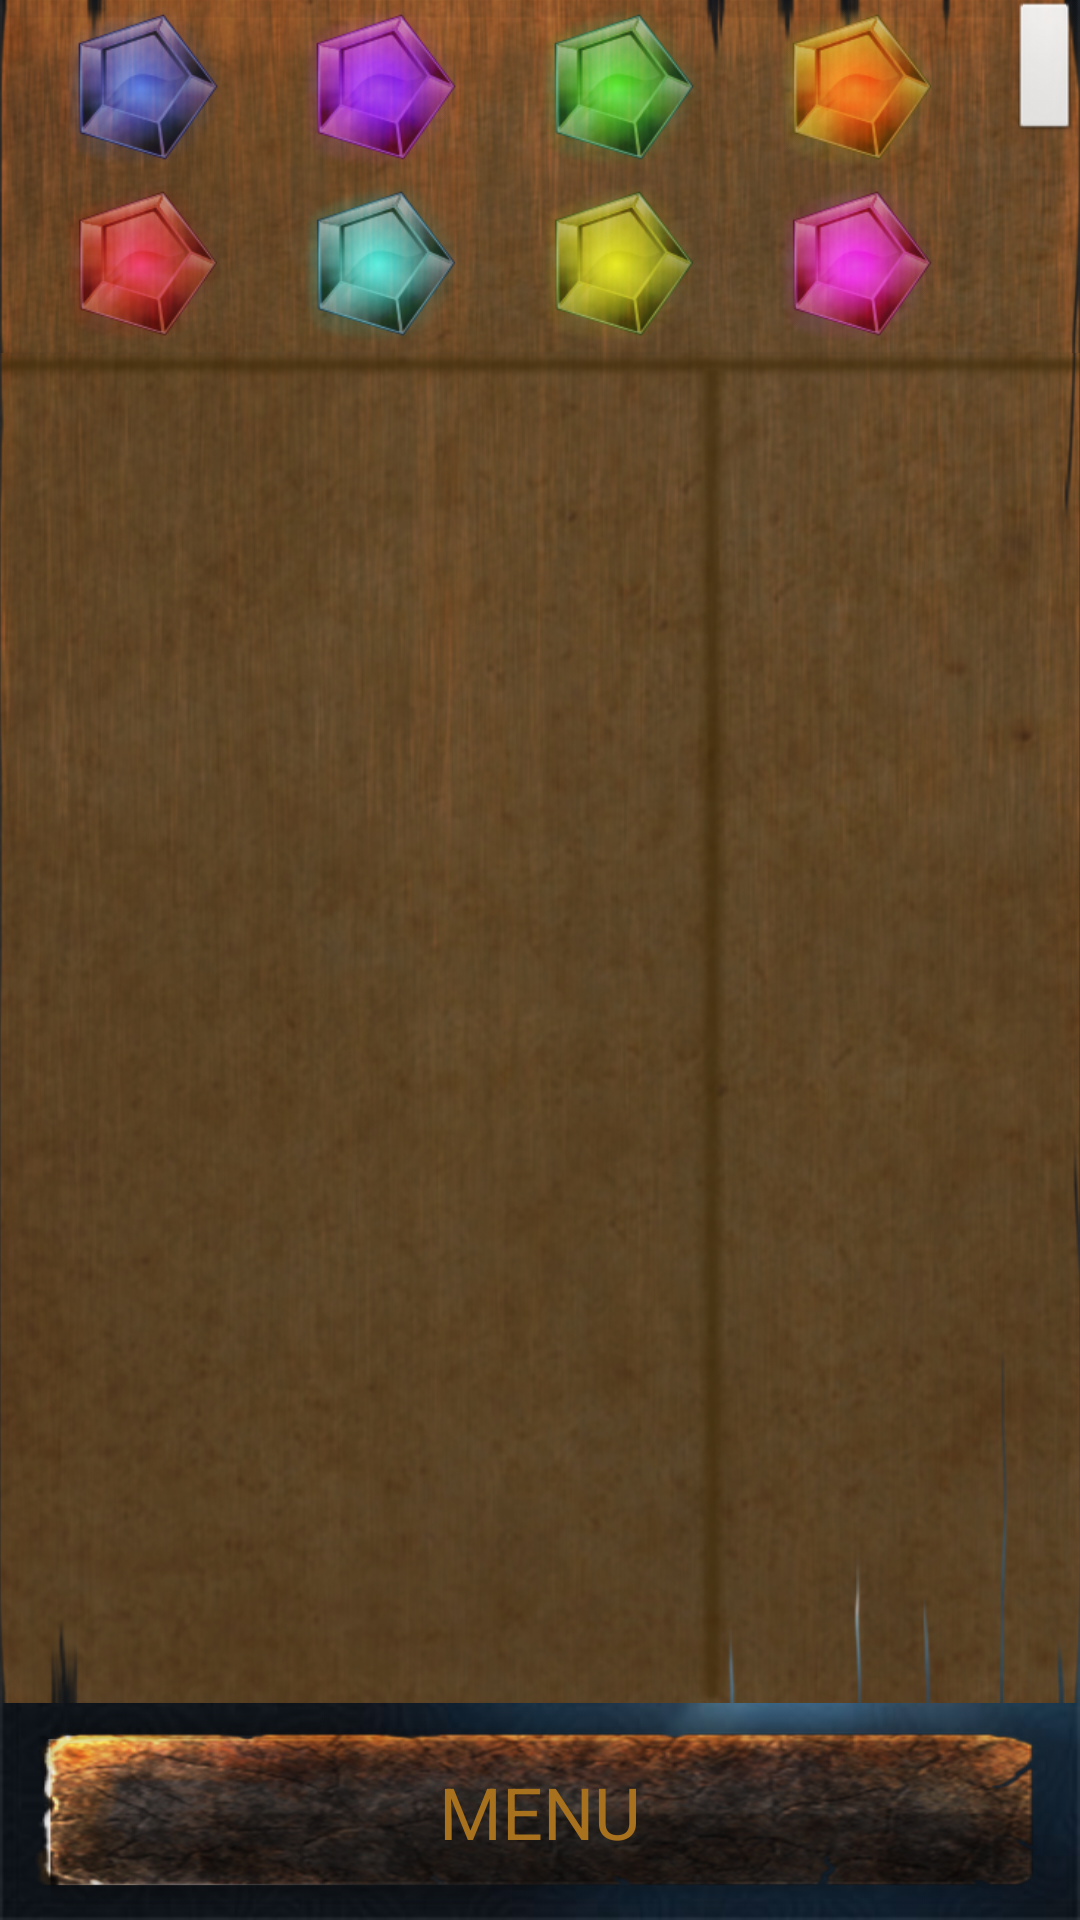

Named icons in this screenshot (1080 × 1920) and their bounding boxes, (x1, y1, x2, y2):
Bleu: (29, 0, 267, 177)
Ciant: (308, 177, 476, 336)
Jaune: (534, 177, 693, 345)
Orange: (743, 0, 981, 177)
Rose: (786, 177, 950, 335)
Rouge: (44, 177, 266, 335)
Vert: (505, 0, 743, 177)
Violet: (269, 0, 505, 177)
